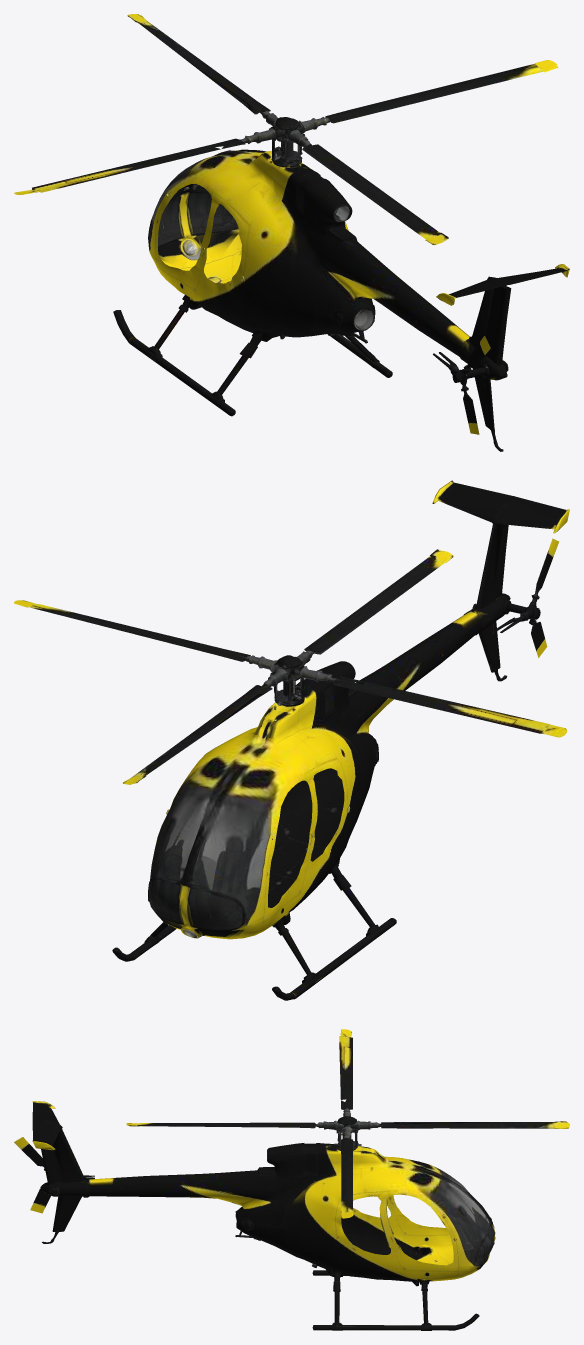
Rendered from helicoptero.glb.
The picture shows the model from 3 angles, top to bottom: view 1: azimuth 30°, elevation 25°; view 2: azimuth 150°, elevation 25°; view 3: azimuth 270°, elevation 25°; orthographic projection. The views are drawn at different scales.
Parts seen in each view (by area): view 1: FuselagemMeshy, Rotor, TailRotor; view 2: FuselagemMeshy, Rotor, TailRotor; view 3: FuselagemMeshy, Rotor.
Part boxes in pixels (x1,y1,x2,y2): FuselagemMeshy: (113,130,510,451); Rotor: (14,14,569,305); TailRotor: (448,358,479,434); FuselagemMeshy: (112,523,559,1000); Rotor: (14,480,569,784); TailRotor: (510,584,547,657); FuselagemMeshy: (14,1125,495,1330); Rotor: (32,1029,569,1218).
Size of the model in its own units: 6.87 by 3.18 by 8.6.
Materials: 1 (1 with a texture image).
